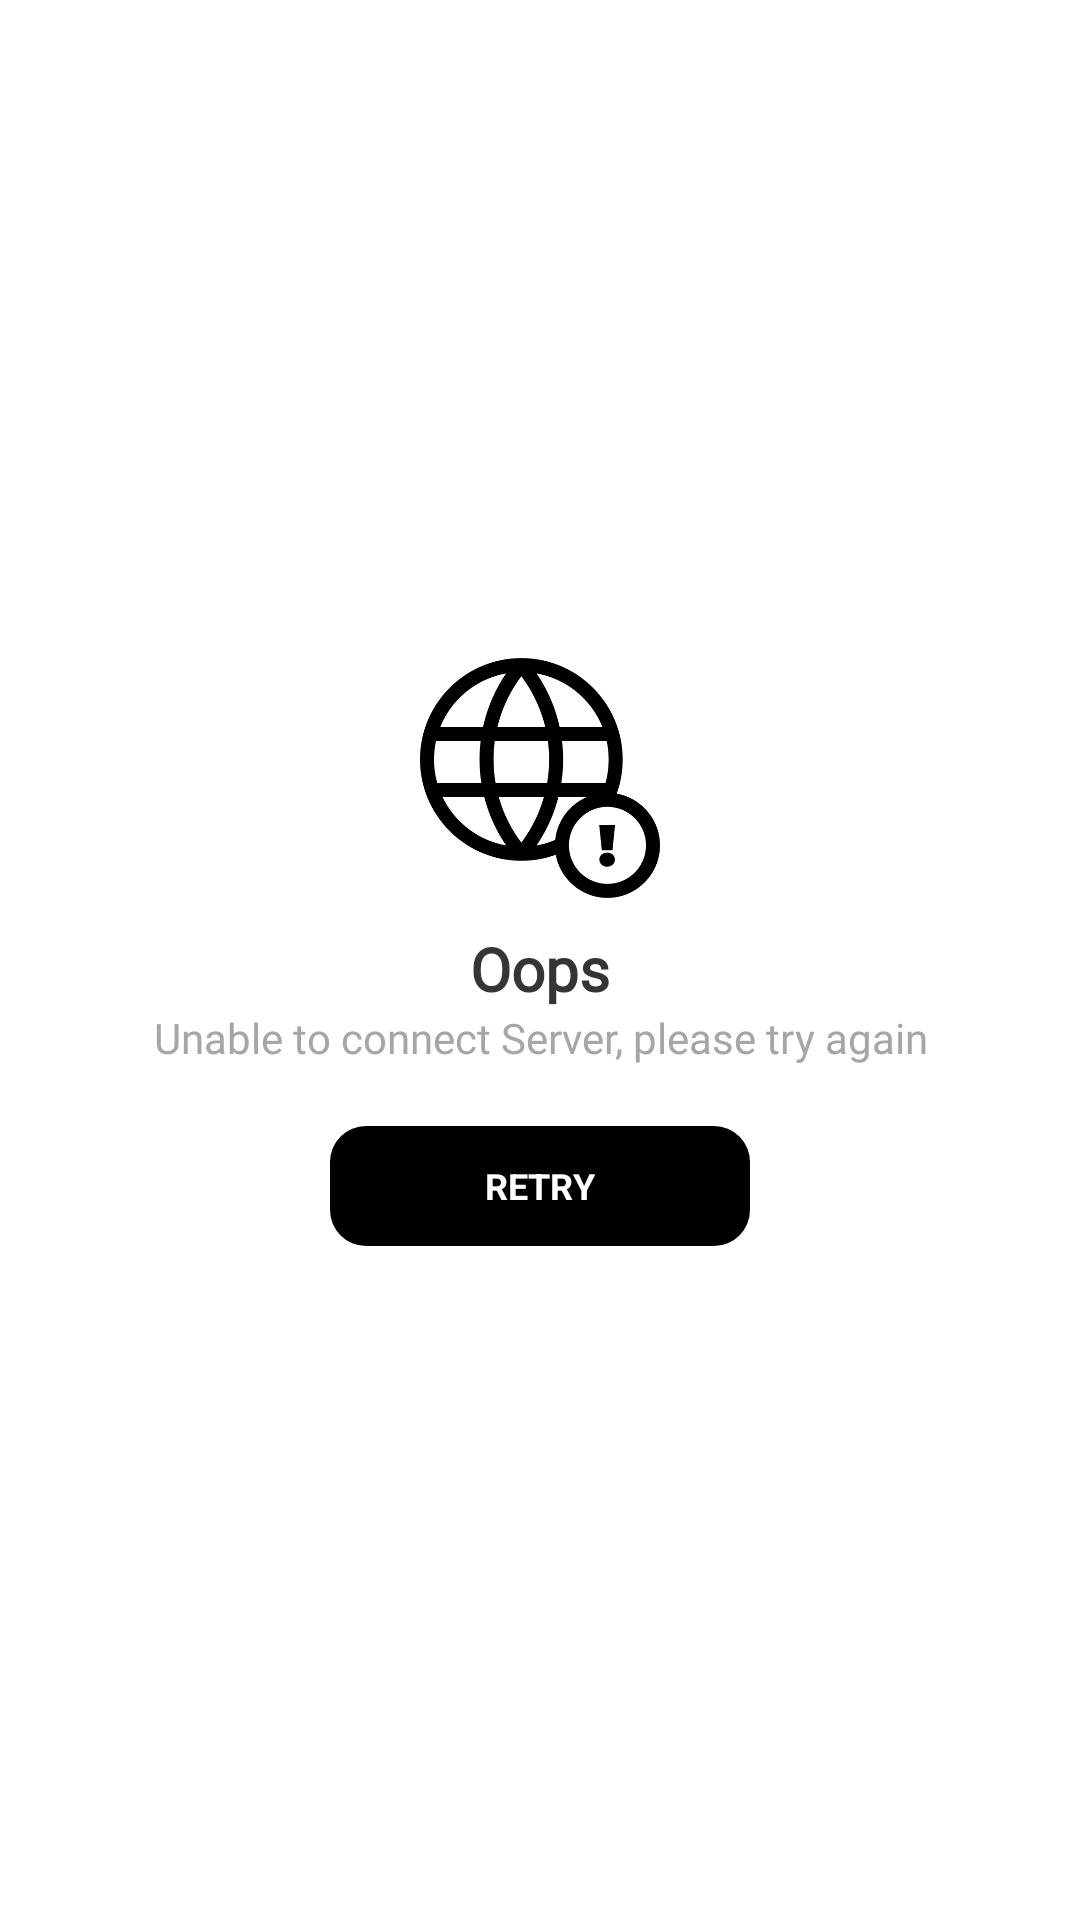

Icon bounding boxes for this 1080px x 1920px phone screenshot, format [x1,y1,x2,y2]:
globe: [420,658,660,898]
